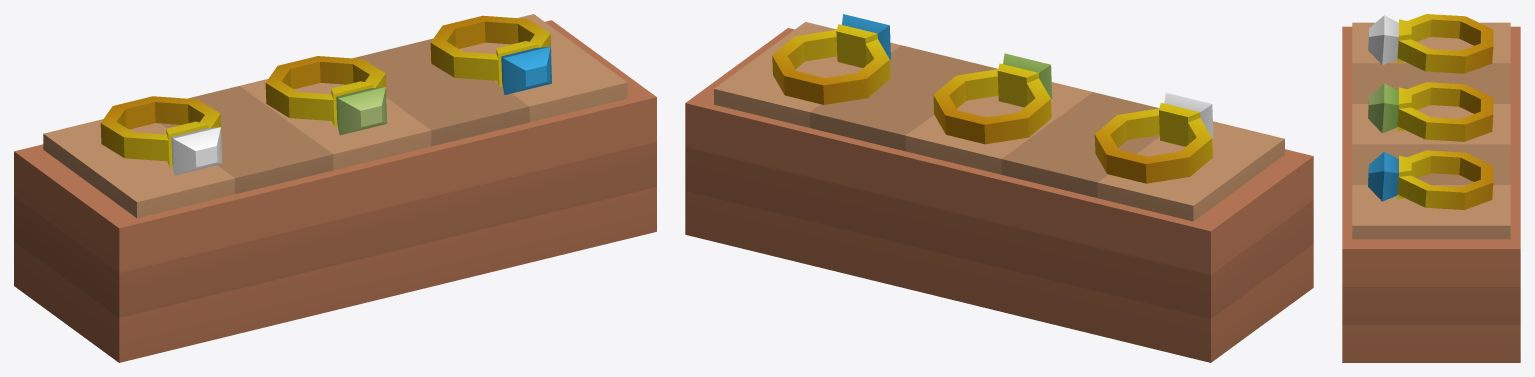
Rendered from jewelry table.fbx.
3 views of the same model, side by side, from view 1: azimuth 30°, elevation 25°; view 2: azimuth 150°, elevation 25°; view 3: azimuth 270°, elevation 25° (orthographic). The views are drawn at different scales.
Parts seen in each view (by area): view 1: jewelry_table, ring_white, ring_green, ring_blue; view 2: jewelry_table, ring_green, ring_white, ring_blue; view 3: jewelry_table, ring_white, ring_green, ring_blue.
Part boxes in pixels (<box>): jewelry_table: <box>14,14,656,362</box>; ring_white: <box>100,96,222,175</box>; ring_green: <box>265,56,387,135</box>; ring_blue: <box>430,15,551,94</box>; jewelry_table: <box>685,22,1313,362</box>; ring_green: <box>933,53,1052,144</box>; ring_white: <box>1094,93,1213,183</box>; ring_blue: <box>772,14,890,104</box>; jewelry_table: <box>1342,22,1520,362</box>; ring_white: <box>1368,14,1493,73</box>; ring_green: <box>1368,82,1493,141</box>; ring_blue: <box>1368,150,1493,209</box>.
Size of the model in its own units: 394 by 131 by 134.
Materials: 1 (1 with a texture image).
